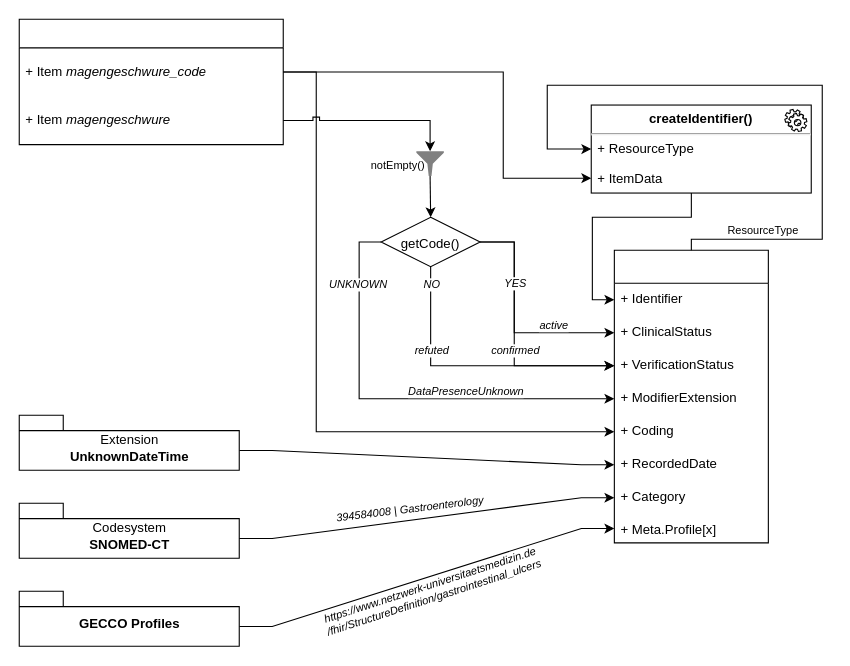
Image size: 850x666. Some labels were removed from this diagram. Here are the shapes that lost their labels. From the top down, the box of each, then its label:
(18, 18, 283, 145): ODM
(613, 249, 768, 543): FHIR-Resource Condition
